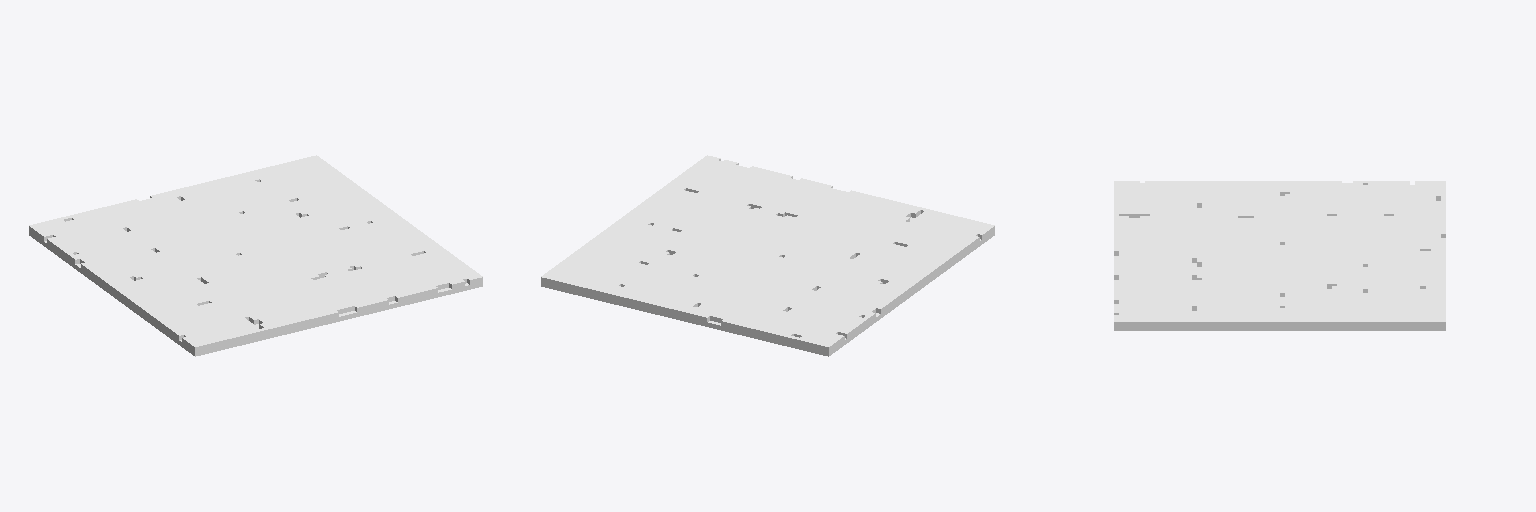
File: Tutorialmap_V2_unfinished-38.obj
3 renders of one model, left to right at view 1: azimuth 30°, elevation 25°; view 2: azimuth 150°, elevation 25°; view 3: azimuth 270°, elevation 25°, orthographic.
Parts seen in each view (by area): view 1: object 1; view 2: object 1; view 3: object 1.
Part boxes in pixels (bbox=[...]): object 1: bbox=[29, 155, 482, 356]; object 1: bbox=[541, 155, 994, 356]; object 1: bbox=[1114, 181, 1445, 330].
Size of the model in its own units: 6.4 by 0.2 by 6.4.